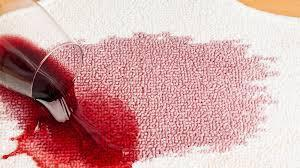oil: (60, 37, 253, 147), (20, 88, 129, 163)
